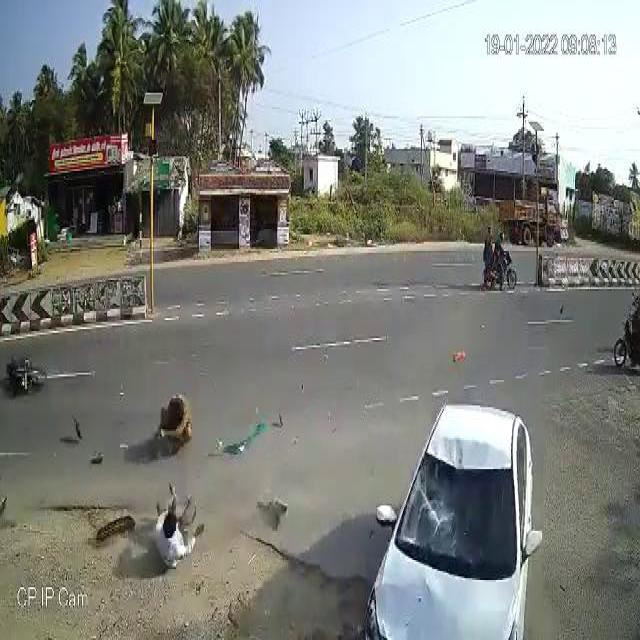accident: (362, 389, 547, 640), (0, 330, 53, 415)
